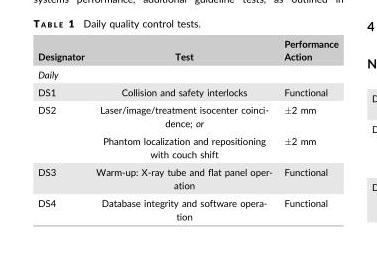table: (37, 37, 337, 221)
table column: (89, 37, 277, 221), (277, 37, 337, 221), (37, 37, 89, 221)
table column header: (37, 37, 337, 64)
table projected row header: (37, 64, 337, 82)
table row: (37, 100, 337, 131), (37, 131, 337, 162), (37, 162, 337, 193), (37, 193, 337, 221), (37, 64, 337, 82), (37, 82, 337, 100), (37, 49, 337, 64), (37, 37, 337, 49)
table spanning cell: (89, 37, 277, 64), (37, 100, 89, 162), (277, 37, 337, 64), (37, 37, 89, 64)
